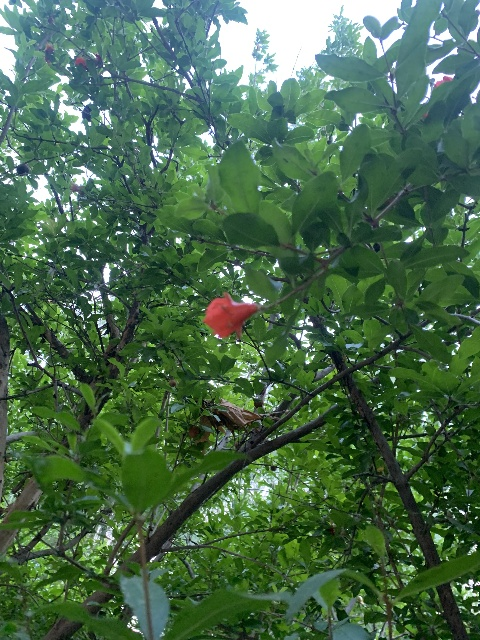early-fruit: (69, 180, 85, 196)
flower: (202, 291, 257, 339)
